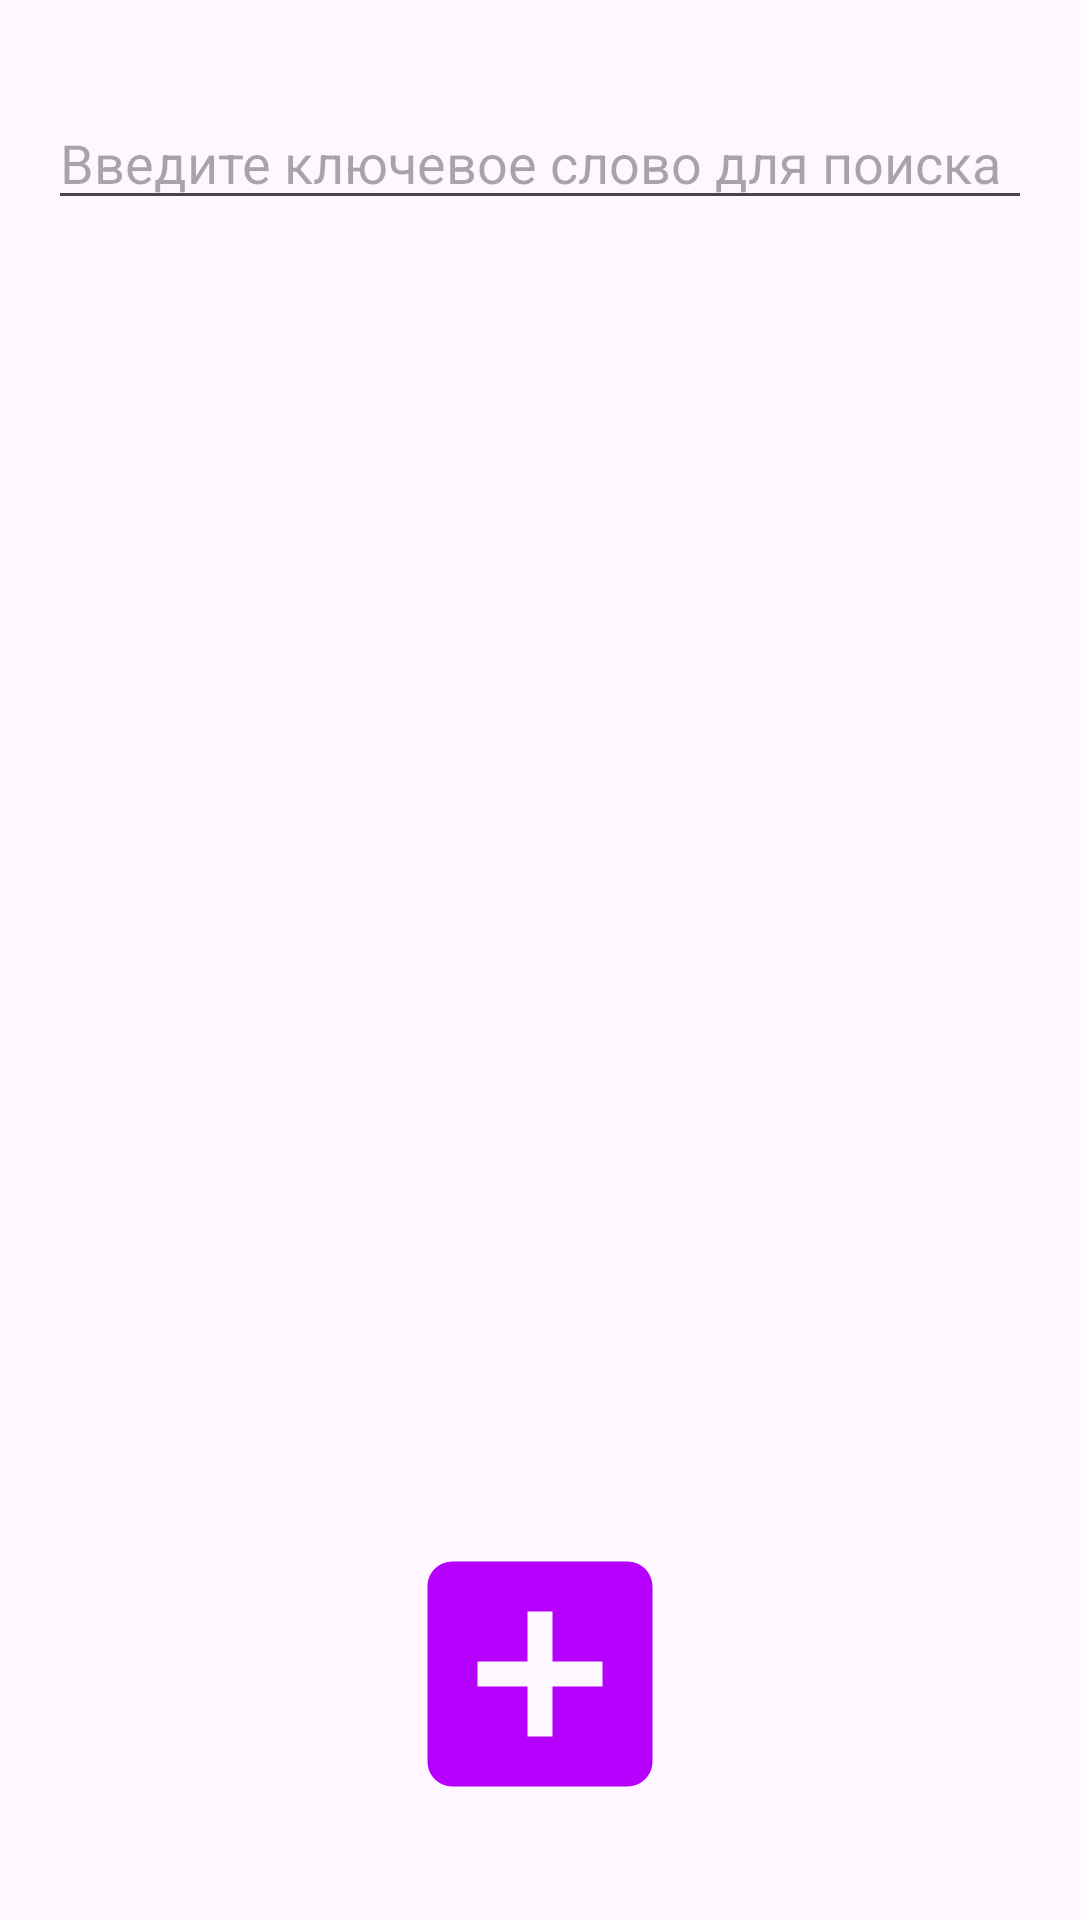

Point at icon controls on the screen. Image size 1080px x 1920px, points as (x=x, y=y).
Описание кнопки добавления: (x=540, y=1674)
